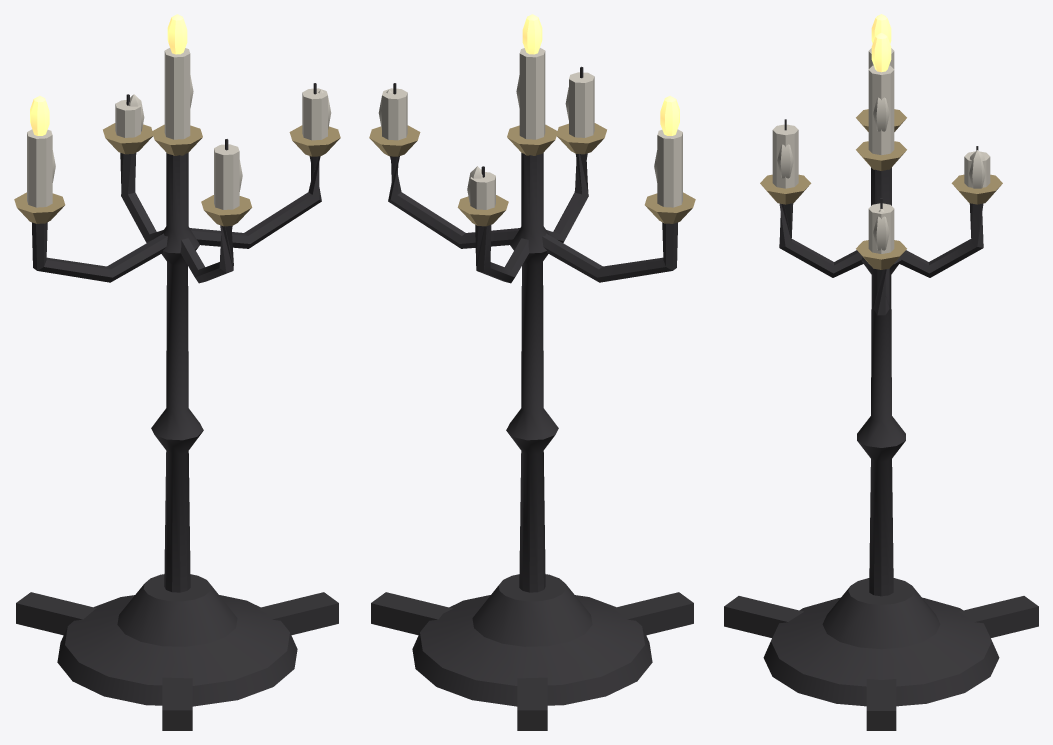
File: candelabra.glb
The picture shows the model from 3 angles, left to right: view 1: azimuth 30°, elevation 25°; view 2: azimuth 150°, elevation 25°; view 3: azimuth 270°, elevation 25°; orthographic projection. The views are drawn at different scales.
Parts seen in each view (by area): view 1: Candelabra; view 2: Candelabra; view 3: Candelabra.
Part boxes in pixels (x1=…): Candelabra: x1=14, y1=14, x2=340, y2=730; Candelabra: x1=369, y1=14, x2=695, y2=730; Candelabra: x1=724, y1=14, x2=1038, y2=730.
Bounding box in the file's own units: 0.98 × 1.87 × 0.8541.
